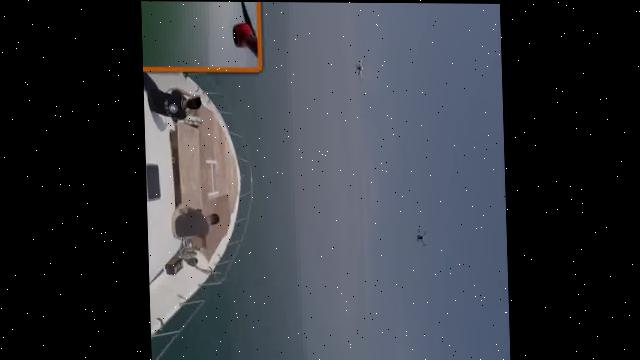drone: (408, 222, 431, 251), (347, 59, 370, 80)
